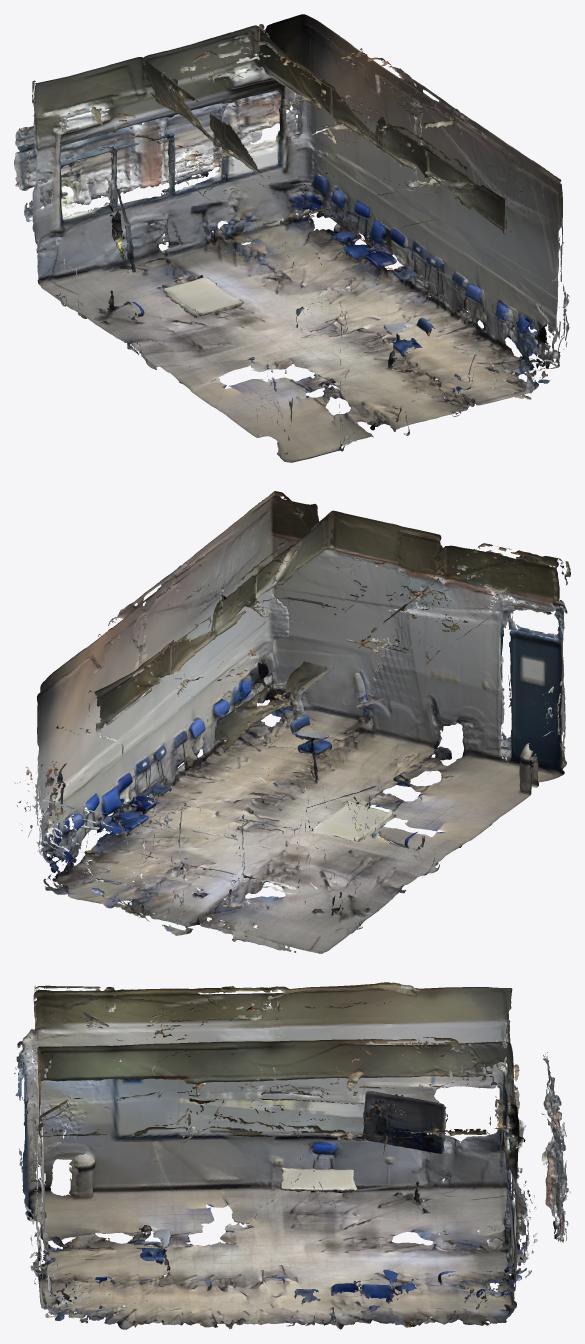
Rendered from aula-p3.glb.
The picture shows the model from 3 angles, top to bottom: view 1: azimuth 30°, elevation 25°; view 2: azimuth 150°, elevation 25°; view 3: azimuth 270°, elevation 25°; orthographic projection. The views are drawn at different scales.
Visible parts, largest first — view 1: mesh; view 2: mesh; view 3: mesh.
Part boxes in pixels (<box>): mesh: <box>14,14,569,462</box>; mesh: <box>14,491,570,953</box>; mesh: <box>14,982,570,1329</box>.
Size of the model in its own units: 5.68 by 3.87 by 8.9.
Materials: 1 (1 with a texture image).
